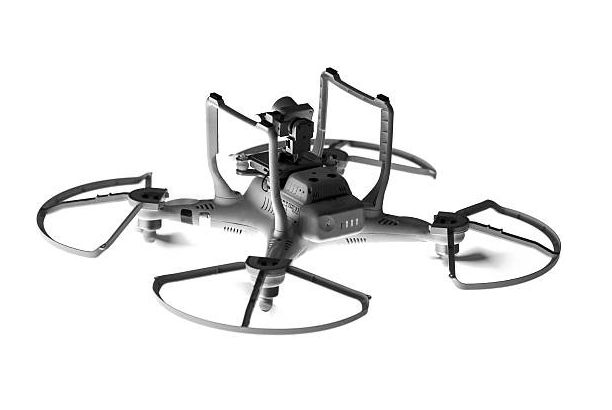Drone: (30, 63, 564, 335)
